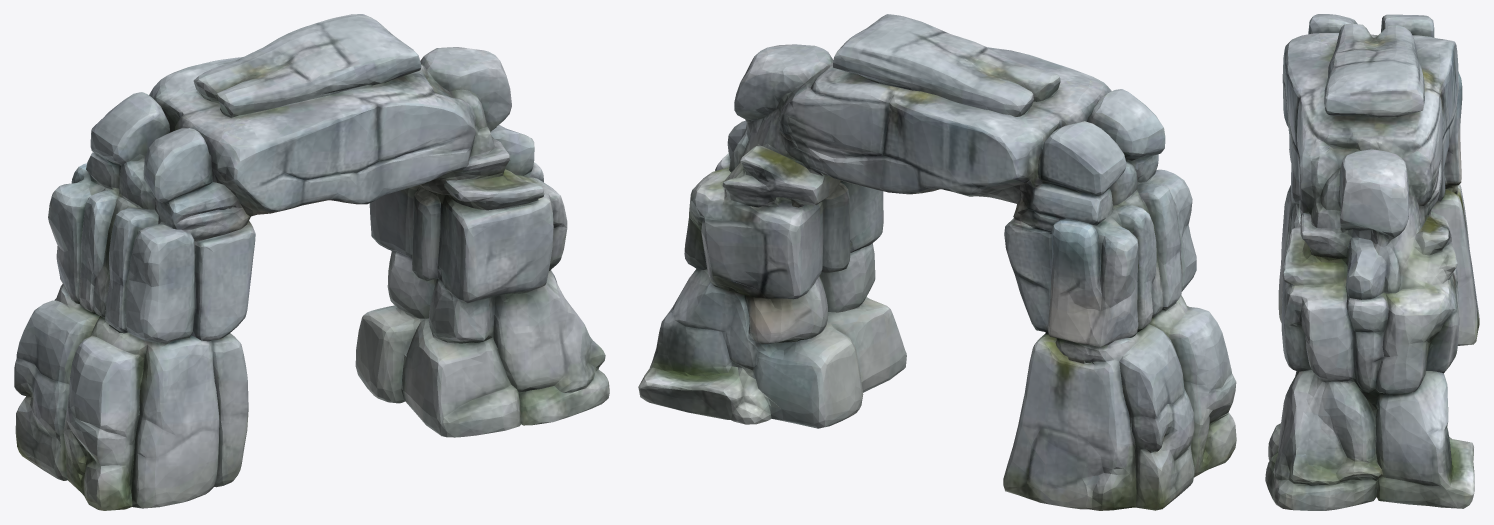
File: cavearch.glb
3 views of the same model, side by side, from view 1: azimuth 30°, elevation 25°; view 2: azimuth 150°, elevation 25°; view 3: azimuth 270°, elevation 25° (orthographic). The views are drawn at different scales.
Visible parts, largest first — view 1: world; view 2: world; view 3: world.
Boxes of the visible parts, box(x1,y1,x2,y2) form: world: box(14, 14, 609, 510); world: box(638, 14, 1236, 510); world: box(1265, 14, 1479, 510).
Bounding box in the file's own units: 0.9925 × 0.7101 × 0.3946.
Materials: 1 (1 with a texture image).
